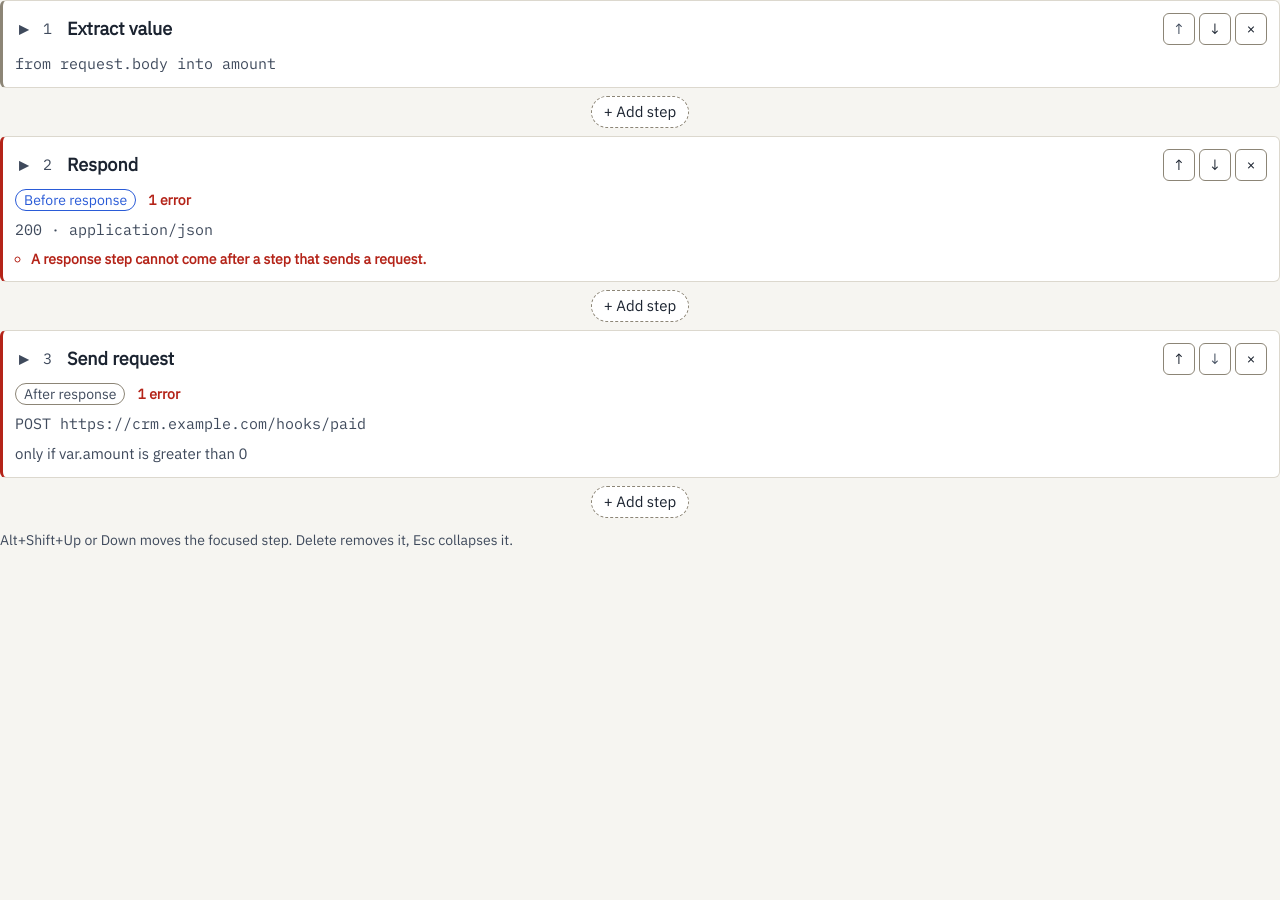
Test: StepList errors › shows server errors on their field and step-level errors on the card
This screenshot has width=1280, height=900.
Expected: the text "1 error" next to "After response" is shown, [138, 385, 180, 403]
Expected: the list item "A response step cannot come after a step that sends a request." is shown, [31, 250, 426, 268]
Click the button "▸ 3 Send request" at {"x": 121, "y": 358}, box [15, 343, 1155, 375]
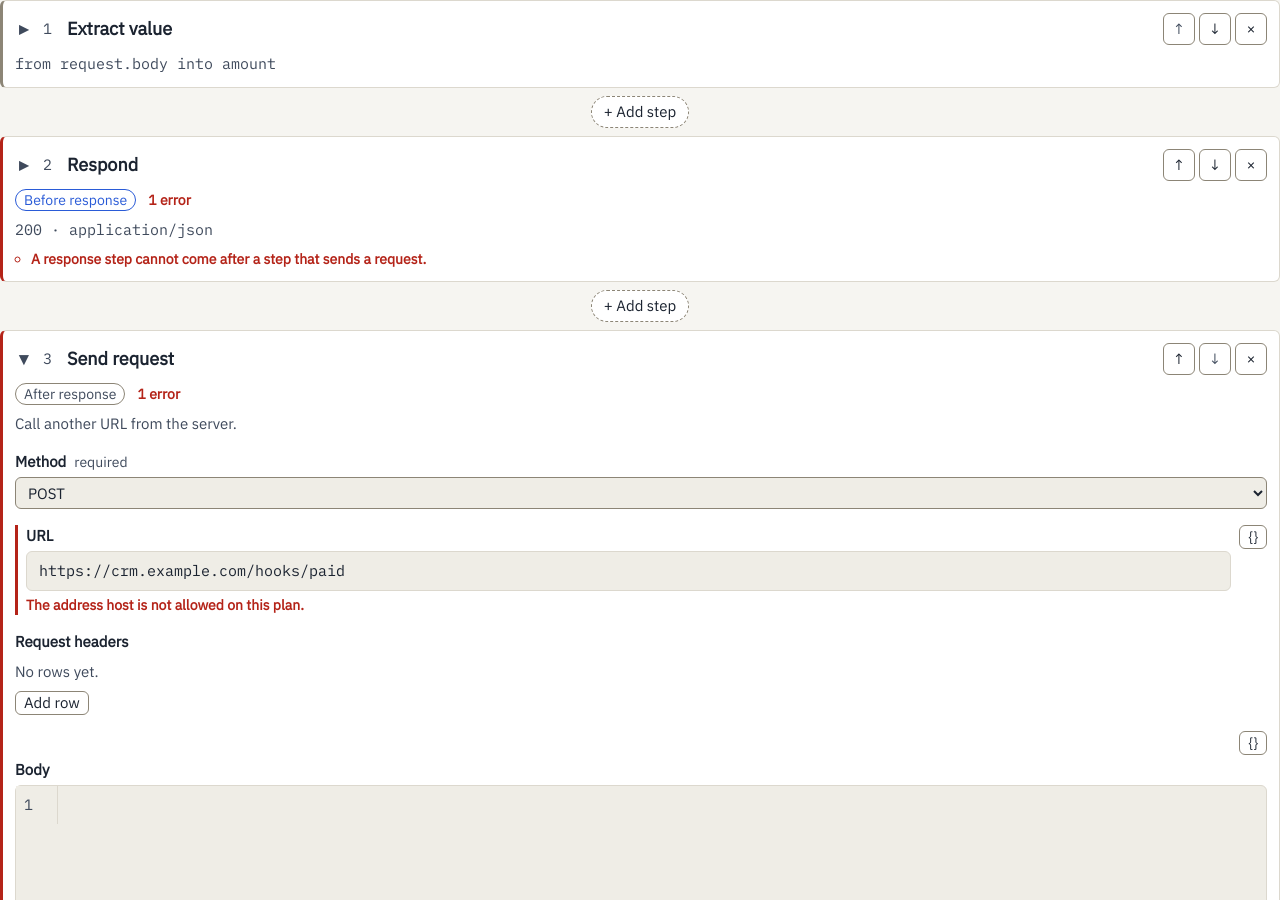
Result: the text "The address host is not allowed on this plan." is shown at [26, 596, 304, 614]
